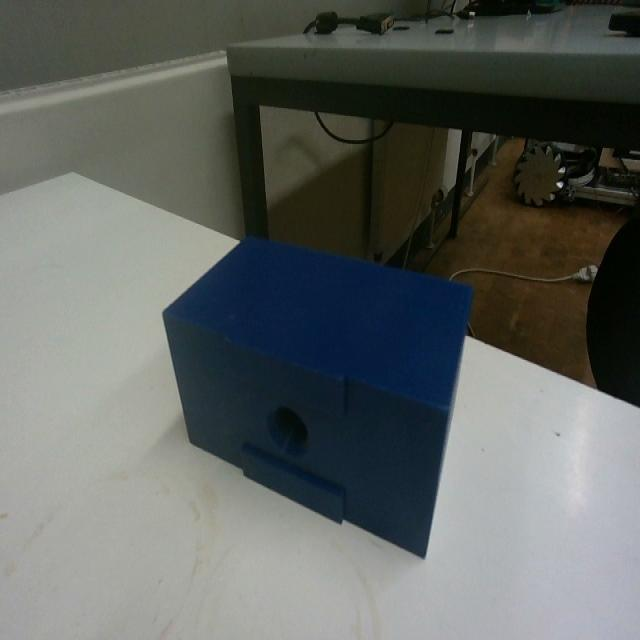Blue Cuboid: (160, 229, 475, 560)
